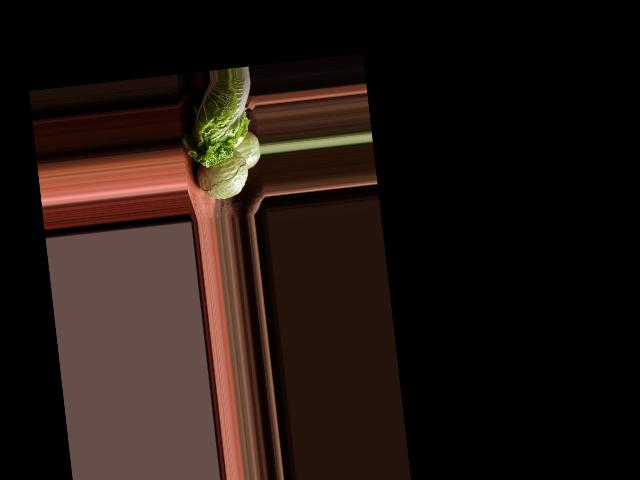lettuce: (175, 82, 263, 205)
